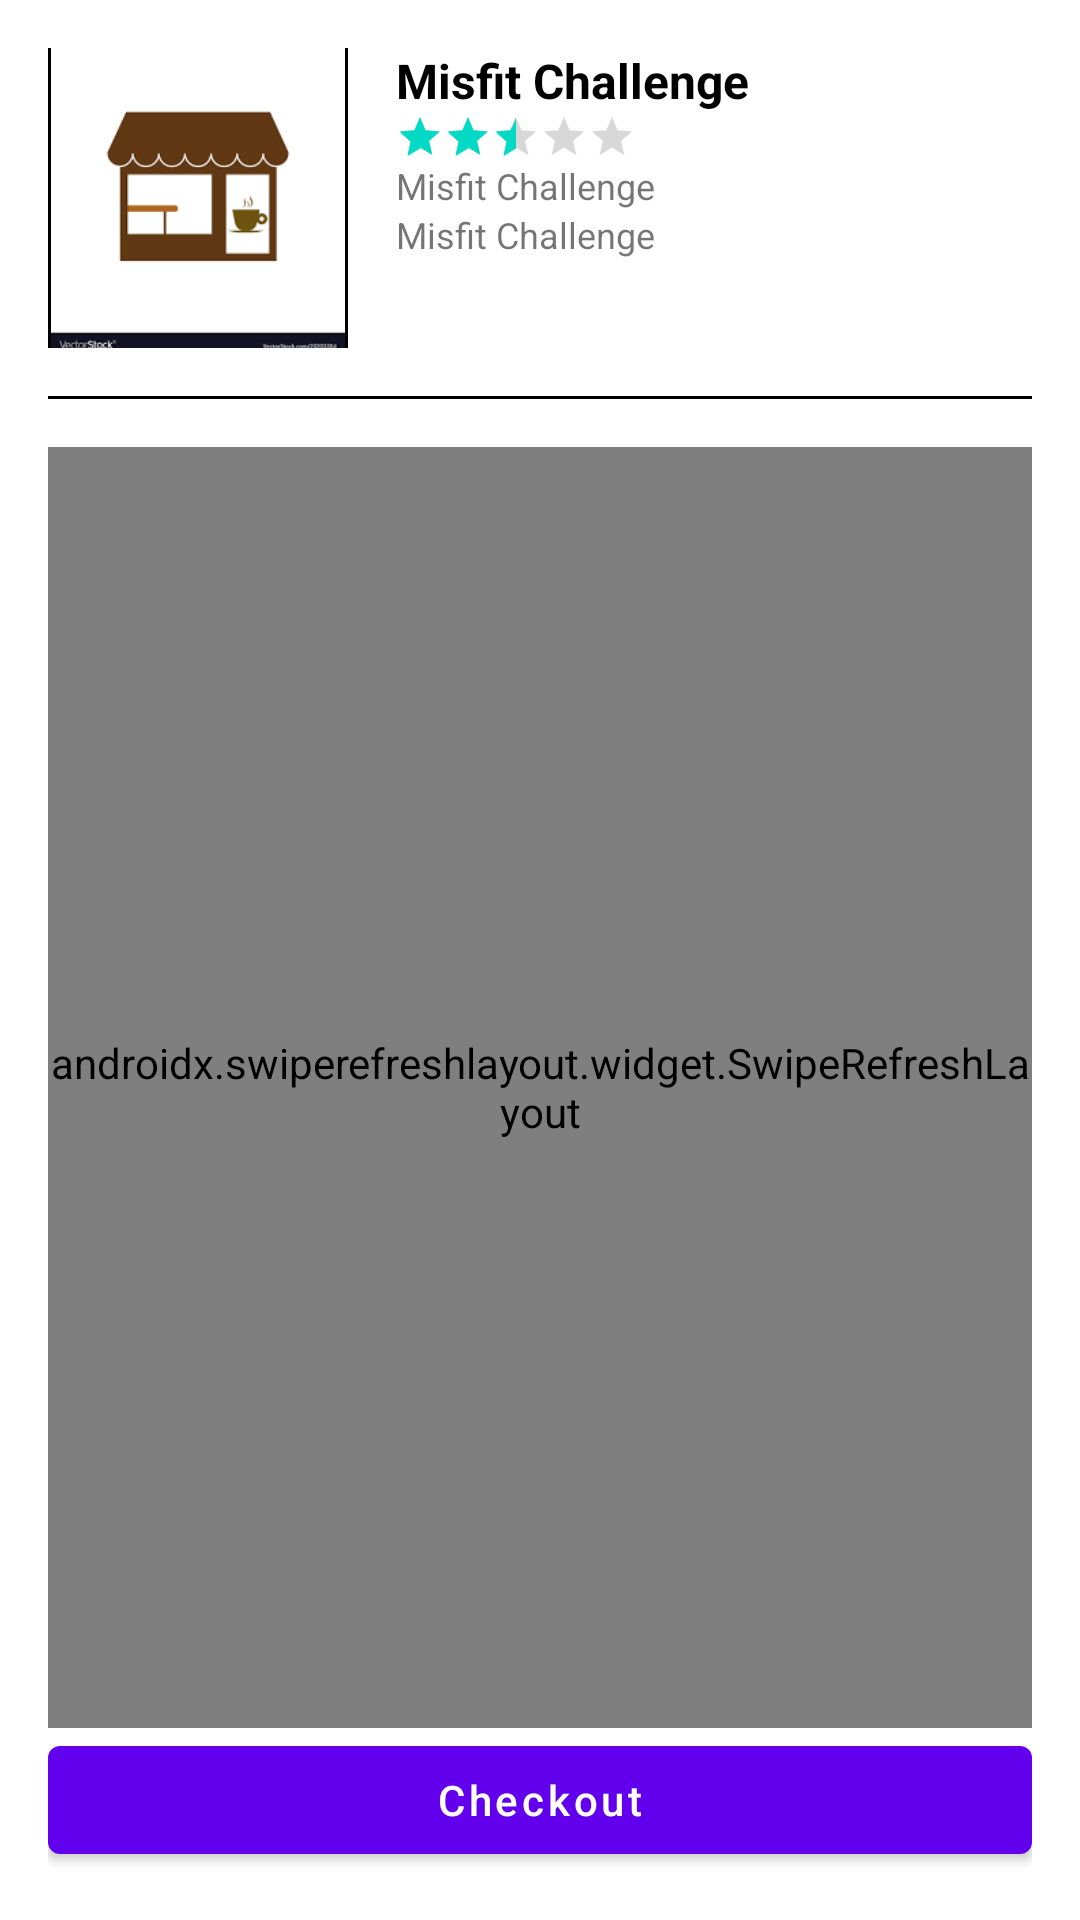

Screen size 1080×1920. Icon name, then its center in pixels as [x,y]:
shop: [198,198]
